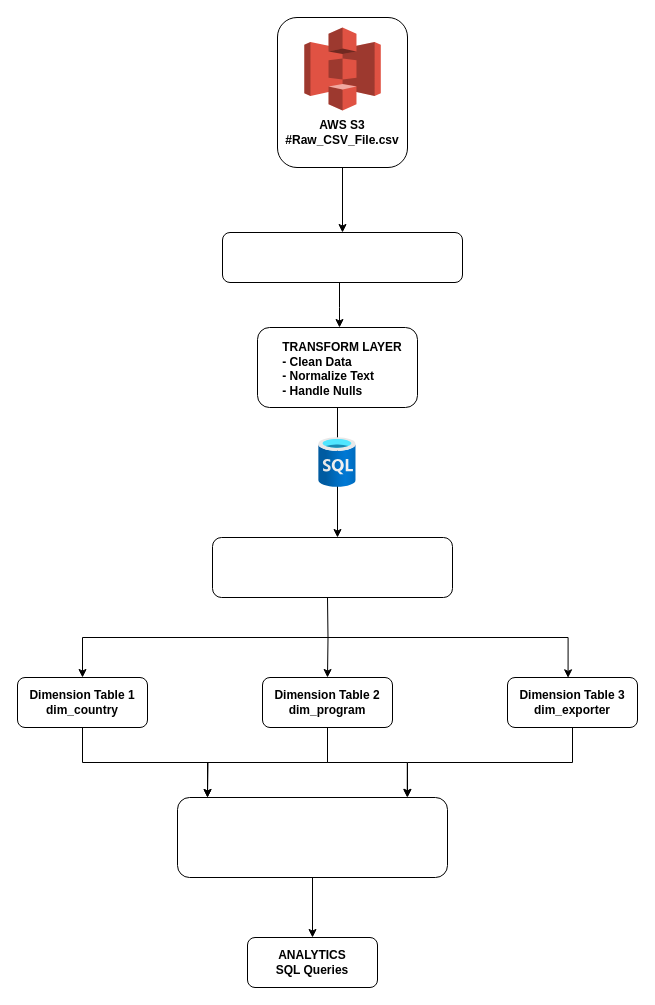
This 655x1005 diagram has some shape labels left out. Each missing label, with the box of its shape:
EXTRACT LAYER (Chunk Processing): (222, 232, 462, 282)
FACT TABLES fact_approved_deals fact_declined_deals: (176, 796, 448, 878)
STAGING TABLE staging_export_data: (212, 536, 452, 598)
